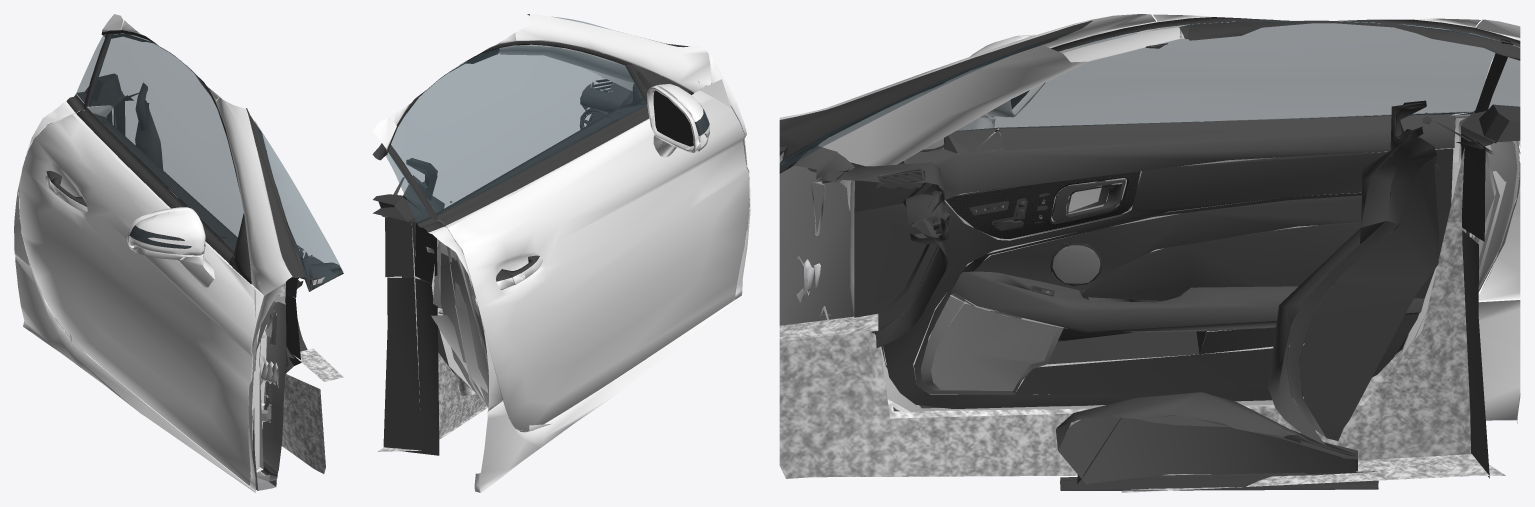
The model's file is mercedes_doorFR.glb.
The picture shows the model from 3 angles, left to right: view 1: azimuth 30°, elevation 25°; view 2: azimuth 150°, elevation 25°; view 3: azimuth 270°, elevation 25°; orthographic projection. The views are drawn at different scales.
Parts seen in each view (by area): view 1: mercedes_doorFR; view 2: mercedes_doorFR; view 3: mercedes_doorFR.
Part boxes in pixels (x1,y1,x2,y2): mercedes_doorFR: (14,14,343,492); mercedes_doorFR: (372,14,750,492); mercedes_doorFR: (779,14,1520,492).
Size of the model in its own units: 0.4449 by 0.9299 by 1.32.
Materials: 21 (5 with a texture image).
